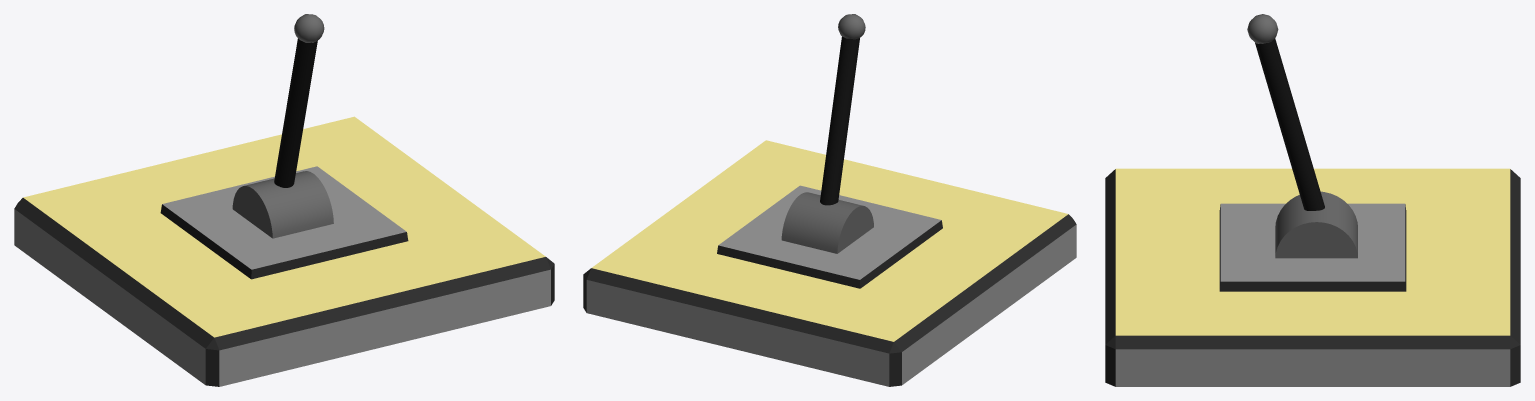
File: Lever Gazebo.FBX
3 views of the same model, side by side, from view 1: azimuth 30°, elevation 25°; view 2: azimuth 150°, elevation 25°; view 3: azimuth 270°, elevation 25° (orthographic). The views are drawn at different scales.
Parts seen in each view (by area): view 1: Lever Square Base, Lever Base, Lever, Top; view 2: Lever Square Base, Lever Base, Lever, Top; view 3: Lever Square Base, Lever Base, Lever, Top.
Part boxes in pixels (x1=…): Lever Square Base: x1=14, y1=116, x2=554, y2=386; Lever Base: x1=232, y1=171, x2=333, y2=238; Lever: x1=274, y1=38, x2=317, y2=187; Top: x1=294, y1=14, x2=324, y2=42; Lever Square Base: x1=583, y1=140, x2=1076, y2=386; Lever Base: x1=781, y1=192, x2=873, y2=253; Lever: x1=820, y1=36, x2=859, y2=205; Top: x1=838, y1=14, x2=865, y2=39; Lever Square Base: x1=1105, y1=168, x2=1520, y2=386; Lever Base: x1=1275, y1=191, x2=1357, y2=258; Lever: x1=1255, y1=38, x2=1324, y2=210; Top: x1=1247, y1=14, x2=1278, y2=43.
Size of the model in its own units: 4 by 3.02 by 4.
